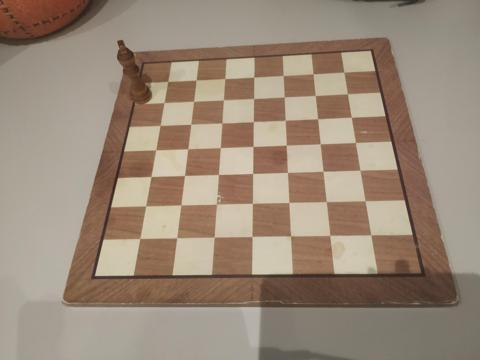xcorner: (247, 234, 258, 245), (145, 173, 156, 184), (216, 118, 227, 129), (248, 93, 259, 104), (172, 235, 182, 246), (326, 233, 337, 243), (176, 202, 186, 213), (361, 198, 372, 208), (179, 172, 189, 183), (213, 171, 223, 182), (283, 169, 294, 179), (319, 168, 330, 178), (248, 142, 258, 153), (316, 140, 327, 150), (352, 138, 362, 149), (281, 115, 291, 126), (347, 112, 357, 123), (279, 92, 290, 102), (278, 70, 289, 80), (309, 68, 319, 79), (135, 236, 145, 246), (209, 235, 219, 245), (287, 234, 297, 244), (367, 233, 377, 243), (141, 203, 151, 213), (211, 202, 221, 212), (248, 201, 258, 211), (285, 200, 295, 210), (323, 199, 333, 209), (248, 170, 258, 180), (356, 167, 366, 177), (150, 146, 160, 156), (182, 145, 192, 155), (215, 144, 225, 154), (282, 141, 292, 151), (154, 121, 164, 131), (185, 120, 195, 130), (248, 117, 258, 127), (314, 114, 324, 124), (158, 98, 168, 108), (188, 97, 198, 107), (218, 95, 228, 105), (311, 90, 321, 100), (343, 89, 353, 99), (162, 77, 172, 87), (190, 75, 200, 85), (219, 74, 229, 84), (249, 72, 259, 82), (340, 67, 350, 77)
